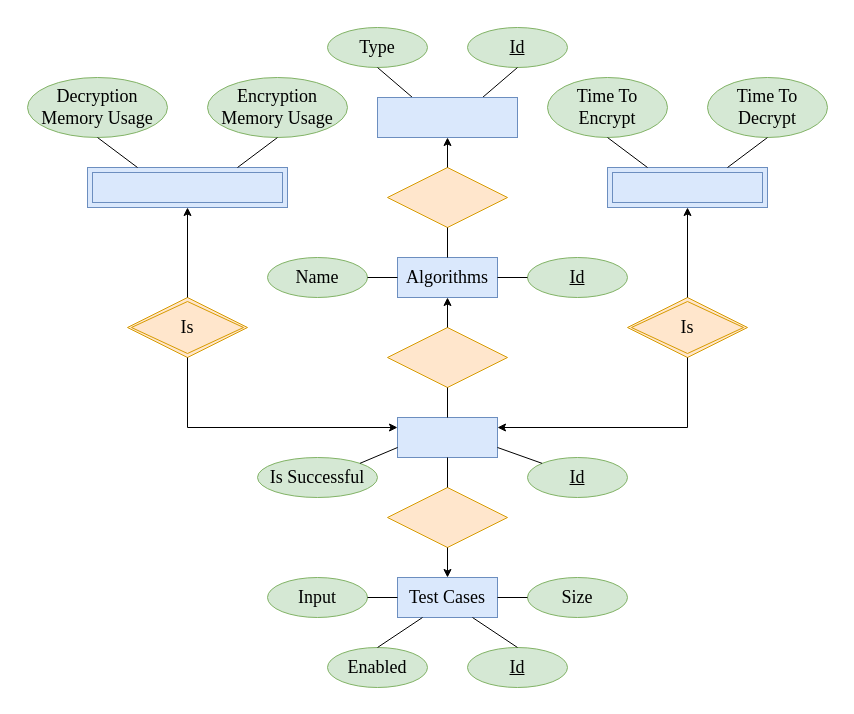
Some shapes in this 854 by 714 pixel diagram are drawn without their labels. The shapes that lost their labels are listed below. From the top down, each one's box as (x1, y1, x2, y2) in pixels, then its label:
(376, 96, 518, 138): Algorithm Types
(86, 166, 288, 208): Memory Usage Results
(386, 166, 508, 228): Has
(606, 166, 768, 208): Run Time Results
(386, 326, 508, 388): Tested
(396, 416, 498, 458): Test Results
(386, 486, 508, 548): Uses
